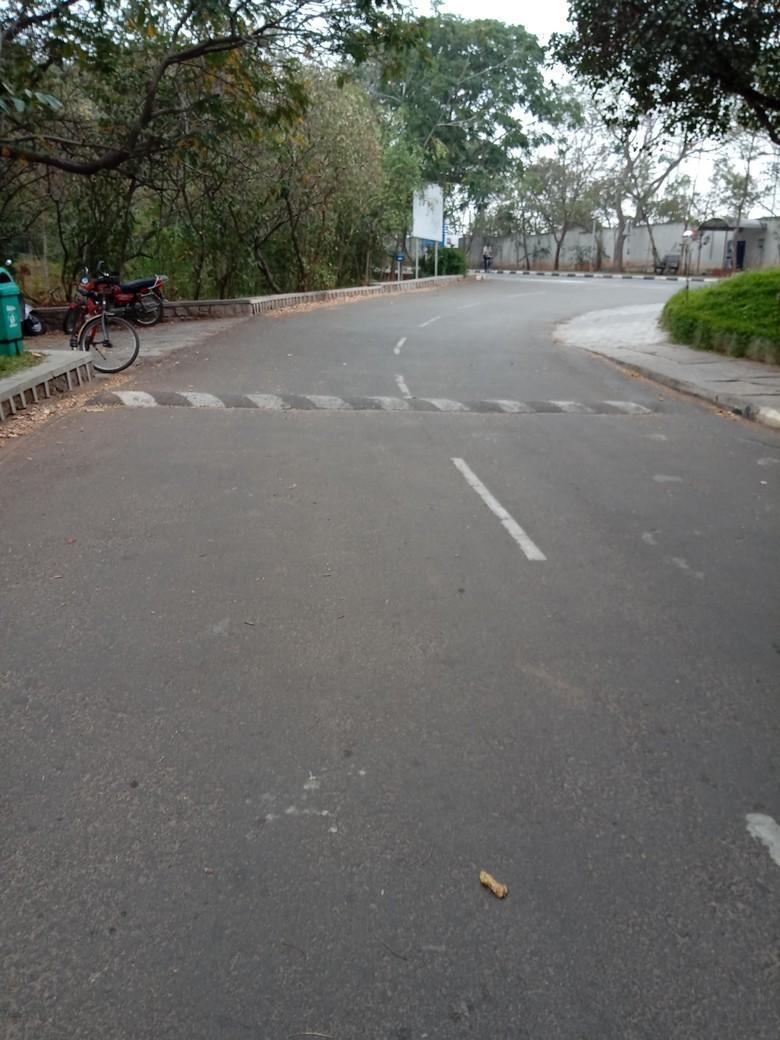speedbreaker: (72, 380, 722, 417)
